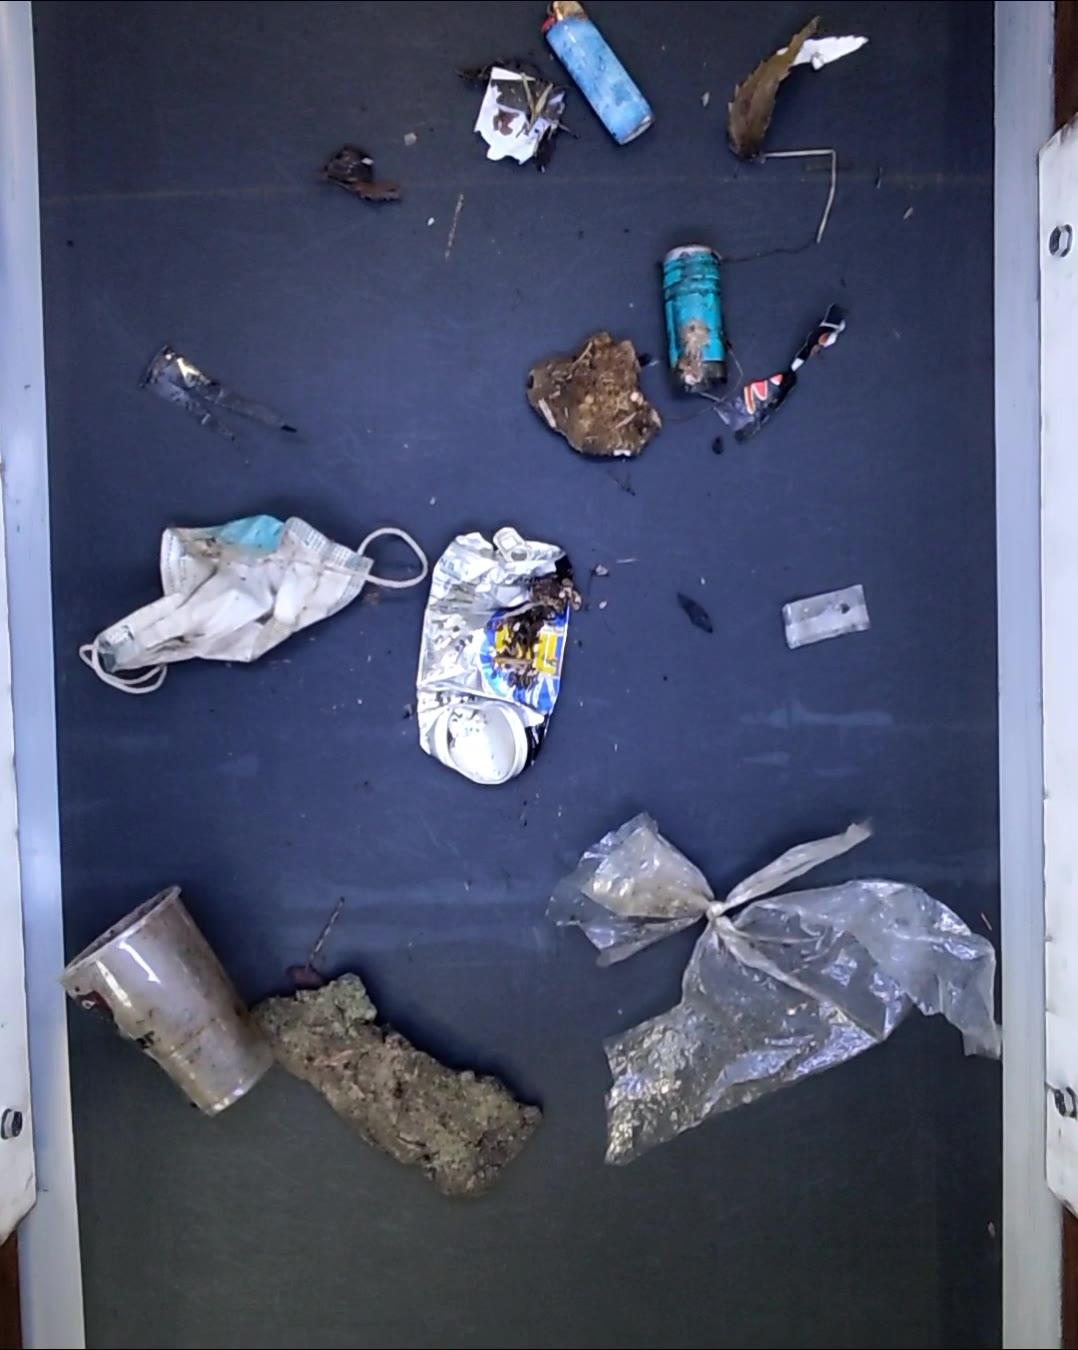Drankblikjes: (419, 525, 564, 784)
Plastic folies of stukken daarvan 2.5- 50 cm: (552, 819, 1003, 1166), (784, 586, 871, 659)
Snoep snack en chips verpakkingen: (722, 306, 853, 447)
